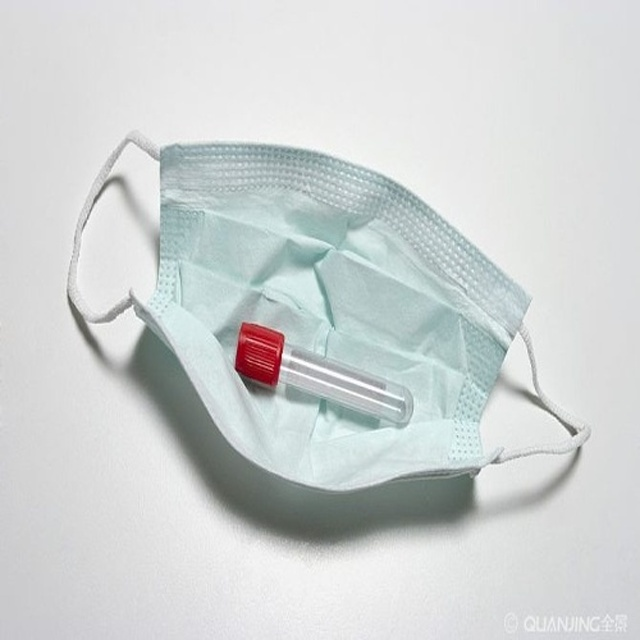mask: (66, 132, 595, 500)
